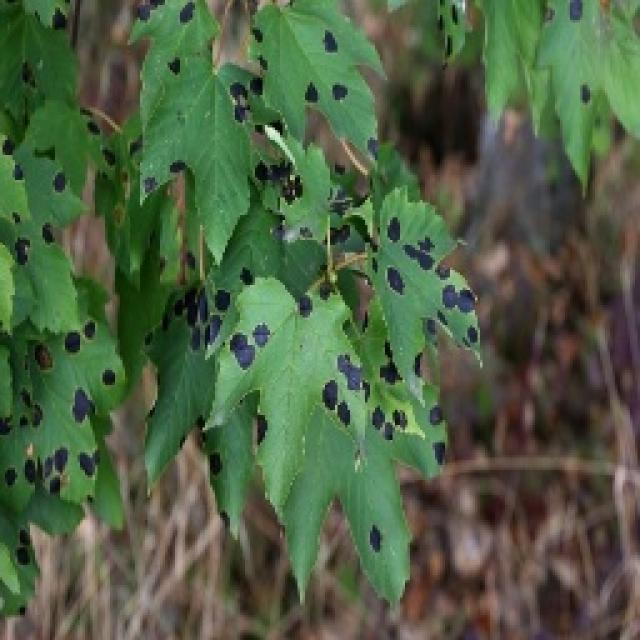Tar_Spot: (164, 214, 528, 504), (17, 308, 120, 506)
